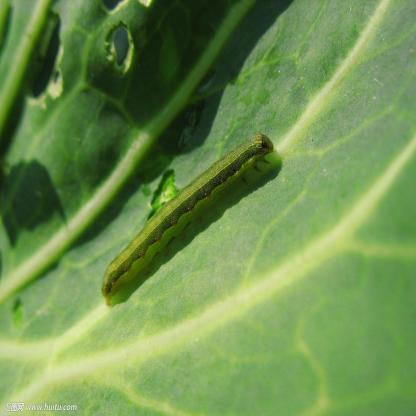armyworm: (87, 112, 291, 318)
